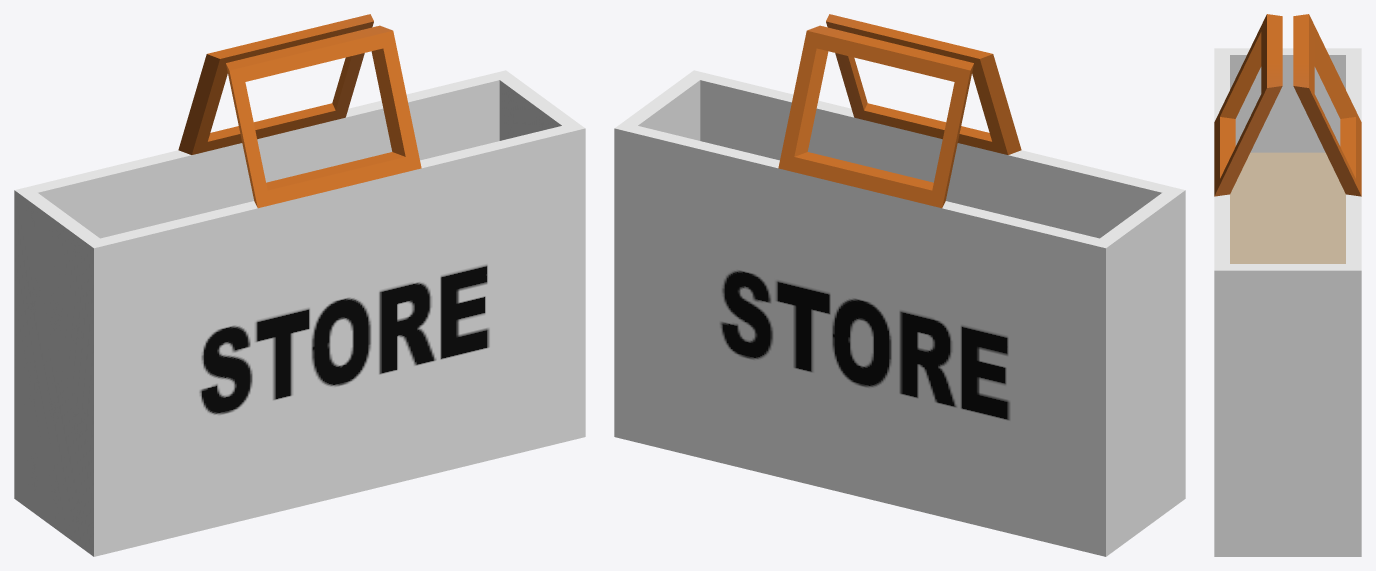
Rendered from Bag.fbx.
The picture shows the model from 3 angles, left to right: view 1: azimuth 30°, elevation 25°; view 2: azimuth 150°, elevation 25°; view 3: azimuth 270°, elevation 25°; orthographic projection. The views are drawn at different scales.
Visible parts, largest first — view 1: Bag; view 2: Bag; view 3: Bag.
Part boxes in pixels (bbox=[...]): Bag: bbox=[14, 14, 585, 556]; Bag: bbox=[614, 14, 1185, 556]; Bag: bbox=[1214, 14, 1361, 556].
Size of the model in its own units: 40 by 33.1 by 11.2.
